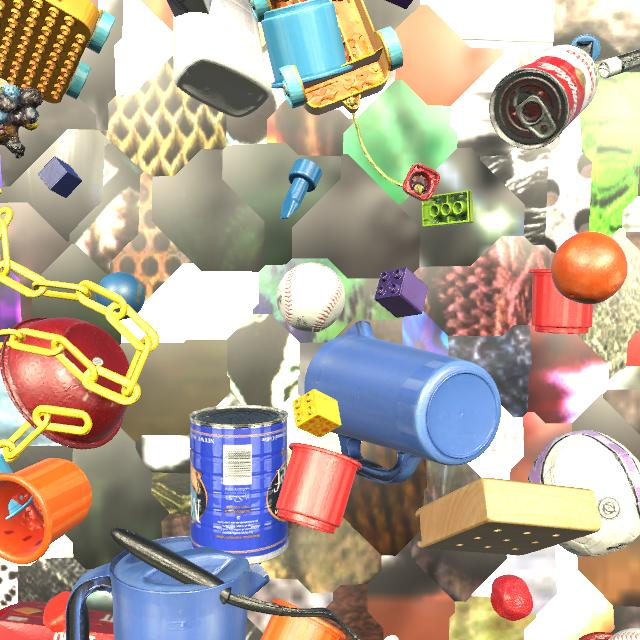ycb_002_master_chef_can: (189, 405, 288, 565)
ycb_003_cracker_box: (0, 601, 114, 640), (273, 0, 281, 2)
ycb_004_sugar_box: (167, 0, 212, 17)
ycb_005_tomato_soup_can: (489, 45, 599, 150)
ycb_012_strawberry: (490, 575, 533, 621)
ycb_017_orange: (551, 231, 628, 305)
